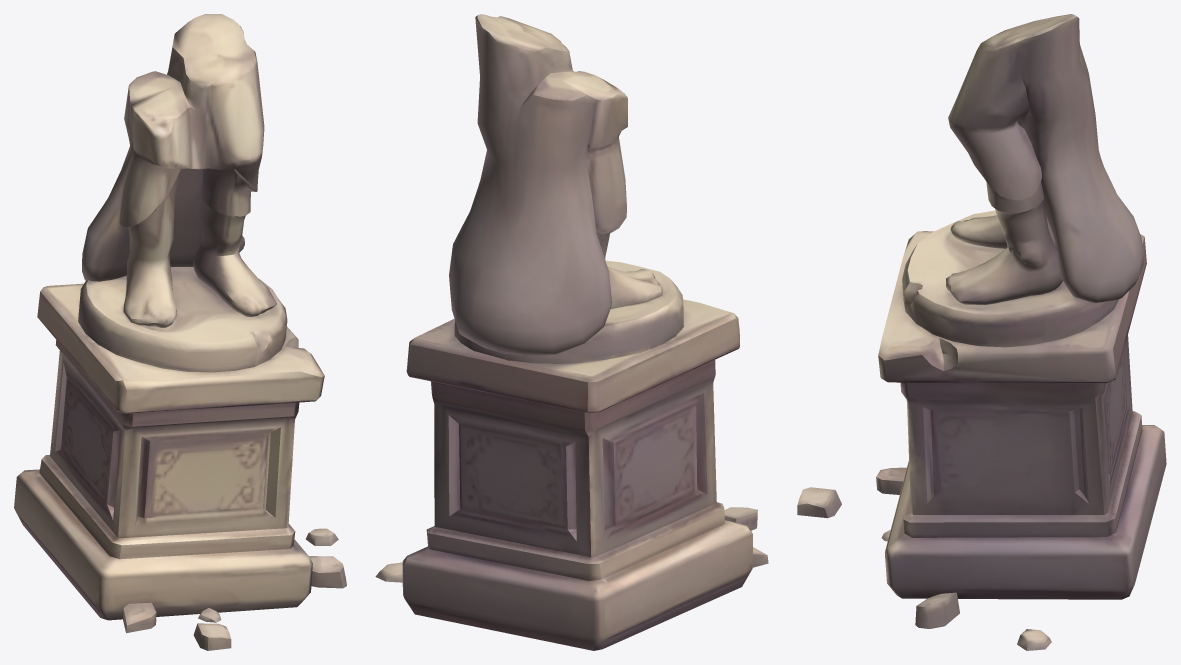
Rendered from SM_RuinStatue_01.fbx.
The picture shows the model from 3 angles, left to right: view 1: azimuth 30°, elevation 25°; view 2: azimuth 150°, elevation 25°; view 3: azimuth 270°, elevation 25°; orthographic projection. The views are drawn at different scales.
Parts seen in each view (by area): view 1: SM_RuinStatue_01; view 2: SM_RuinStatue_01; view 3: SM_RuinStatue_01.
Part boxes in pixels (x1,y1,x2,y2): SM_RuinStatue_01: [14, 14, 346, 650]; SM_RuinStatue_01: [375, 14, 768, 650]; SM_RuinStatue_01: [797, 14, 1166, 650].
Size of the model in its own units: 58.16 by 104 by 60.3.
Materials: 1 (1 with a texture image).
